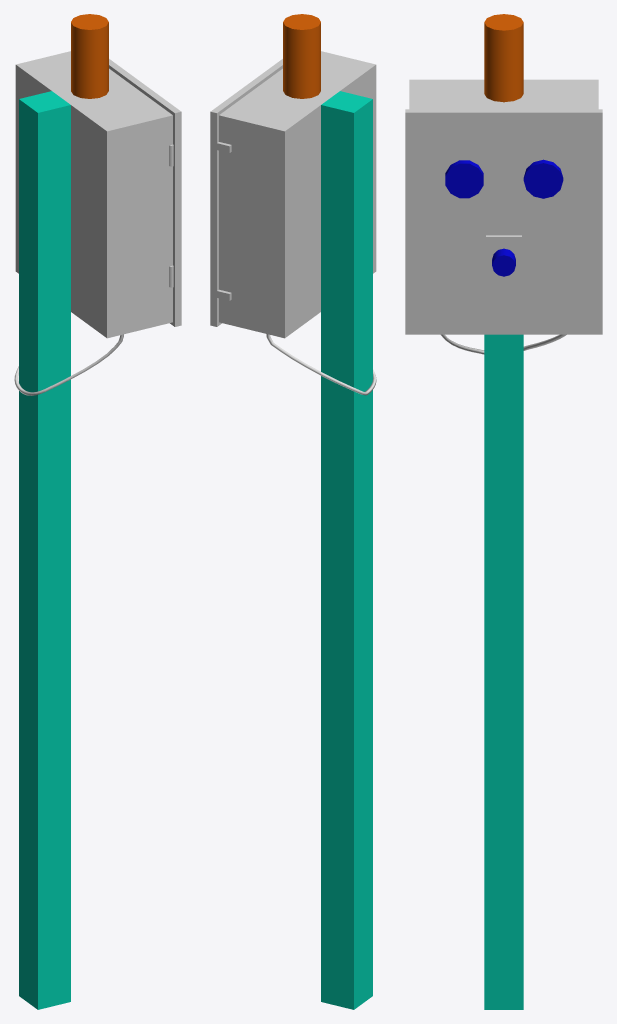
File: prop_elec_a.FBX
3 renders of one model, left to right at view 1: azimuth 30°, elevation 25°; view 2: azimuth 150°, elevation 25°; view 3: azimuth 270°, elevation 25°, orthographic. The views are drawn at different scales.
Visible parts, largest first — view 1: prop_elec_a; view 2: prop_elec_a; view 3: prop_elec_a.
Boxes of the visible parts, <box> form: prop_elec_a: <box>14,14,181,1009</box>; prop_elec_a: <box>210,14,376,1009</box>; prop_elec_a: <box>405,14,602,1009</box>.
Bounding box in the file's own units: 19.5 × 140 × 25.
